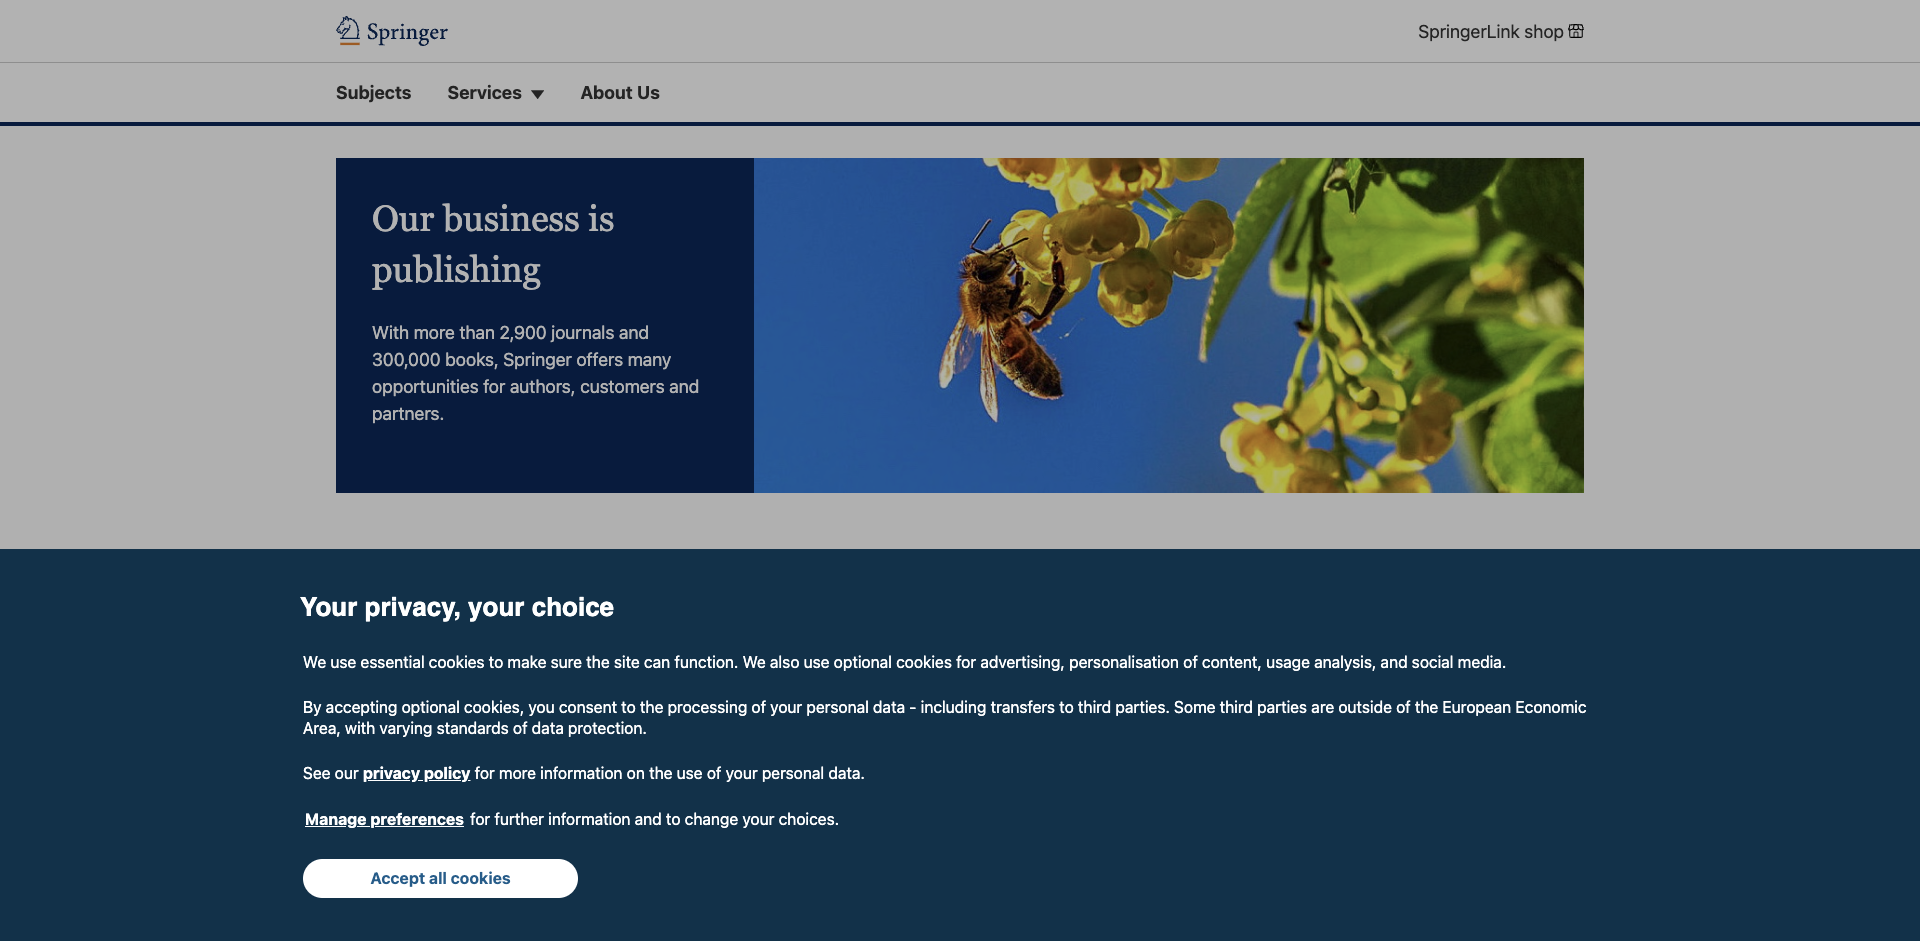button: (302, 859, 578, 898), (302, 807, 467, 831), (447, 80, 545, 107)
link: (1418, 17, 1584, 44), (353, 569, 534, 591), (336, 16, 448, 47), (986, 735, 1138, 757), (670, 735, 800, 757), (1303, 735, 1411, 757), (580, 80, 660, 107), (336, 80, 411, 107), (362, 763, 470, 782)
